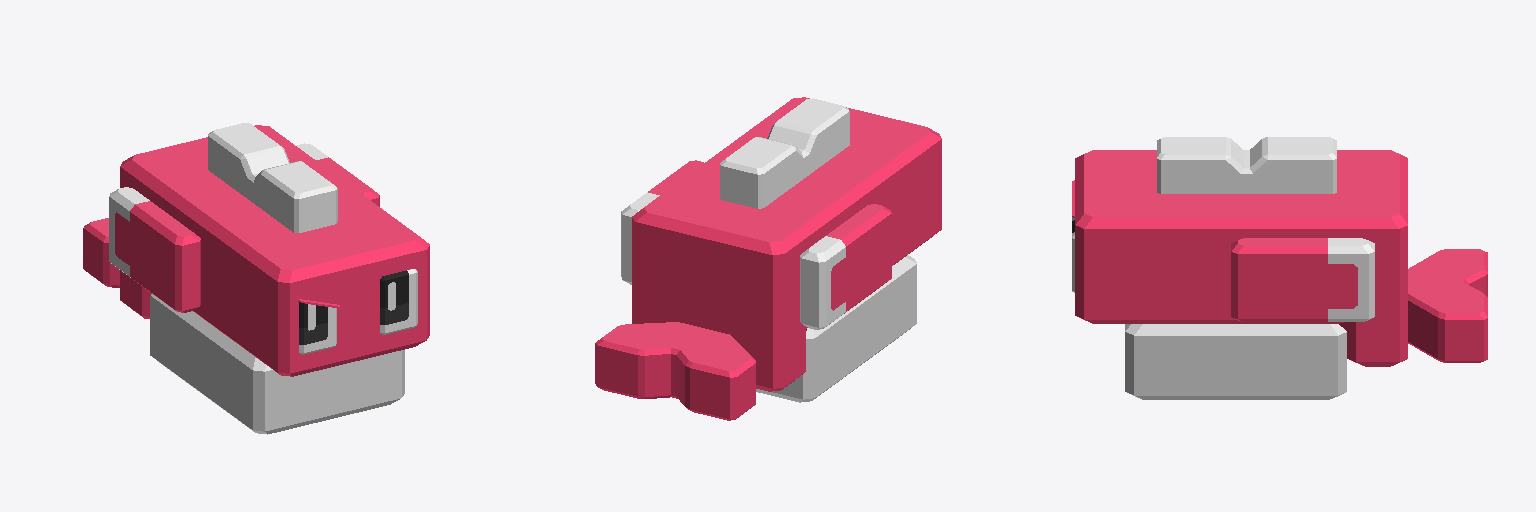
The picture shows the model from 3 angles: view 1: azimuth 30°, elevation 25°; view 2: azimuth 150°, elevation 25°; view 3: azimuth 270°, elevation 25°; orthographic projection.
Parts seen in each view (by area): view 1: model; view 2: model; view 3: model.
Boxes of the visible parts, <box> form: model: <box>83,123,429,434</box>; model: <box>595,97,941,420</box>; model: <box>1072,137,1487,399</box>.
Size of the model in its own units: 1.08 by 1.11 by 1.9.
1 materials, 1 textured.